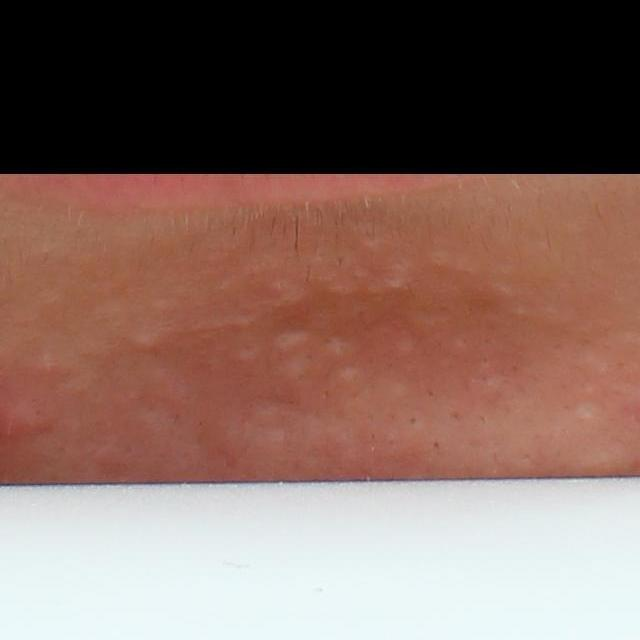comedo: (404, 410, 426, 430), (431, 438, 442, 452), (425, 387, 435, 400)
hypertrophic_scar: (216, 394, 385, 456), (32, 306, 128, 390), (425, 237, 513, 275), (258, 276, 312, 315), (187, 314, 259, 337), (565, 395, 610, 427), (222, 343, 271, 371), (269, 330, 315, 353), (126, 328, 163, 353), (369, 275, 412, 295), (388, 332, 418, 356), (387, 375, 418, 396), (489, 281, 527, 298), (475, 372, 515, 387), (356, 235, 384, 255), (326, 281, 363, 296), (324, 338, 353, 355), (335, 361, 360, 380)
